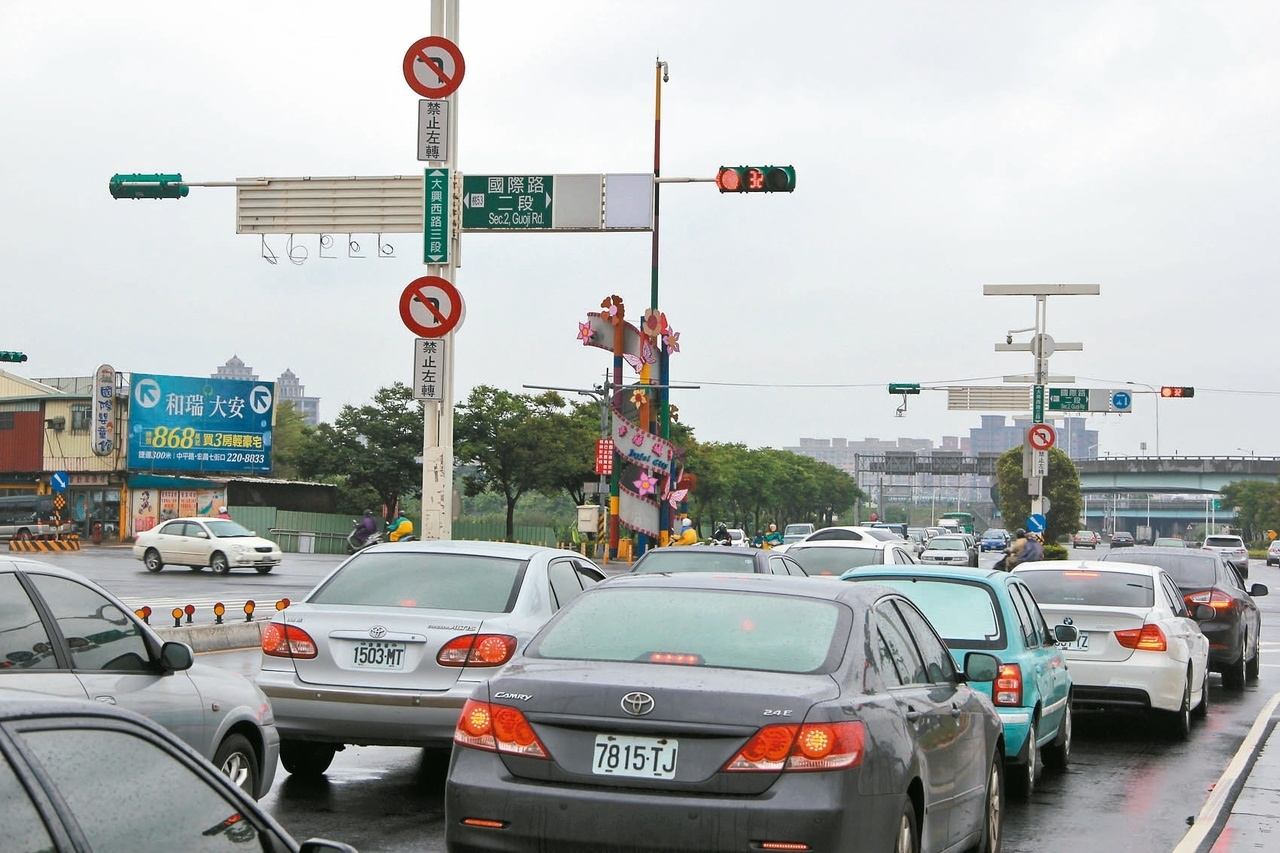No_left_turn: (403, 34, 465, 98), (398, 276, 462, 337), (1028, 424, 1056, 450)
Traffic_light_red: (717, 163, 796, 194), (1161, 385, 1192, 397)
